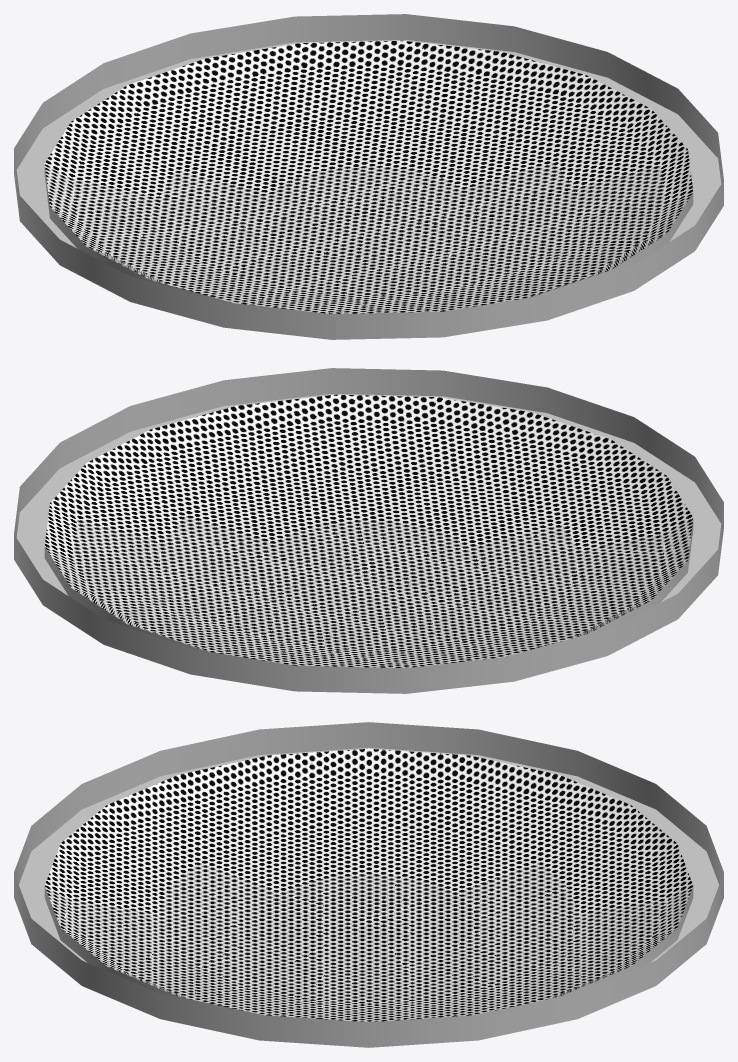
File: grille.fbx
3 renders of one model, top to bottom at view 1: azimuth 30°, elevation 25°; view 2: azimuth 150°, elevation 25°; view 3: azimuth 270°, elevation 25°, orthographic.
Visible parts, largest first — view 1: grille; view 2: grille; view 3: grille.
Boxes of the visible parts, x1=… form: grille: x1=14, y1=14, x2=723, y2=339; grille: x1=14, y1=368, x2=723, y2=693; grille: x1=14, y1=722, x2=723, y2=1047.
Size of the model in its own units: 0.3001 by 0.0221 by 0.3001.
